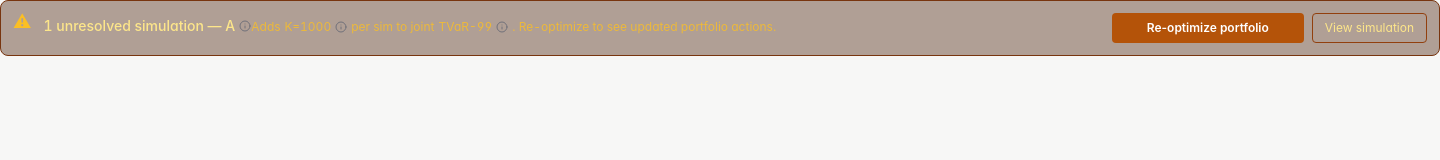
SimulationBanner — re-optimize progress stream › surfaces stream errors on the banner without reloading the page
Click the button with test id "reoptimize-button". click: (1208, 28)
box: x1=1112 y1=13 x2=1304 y2=43
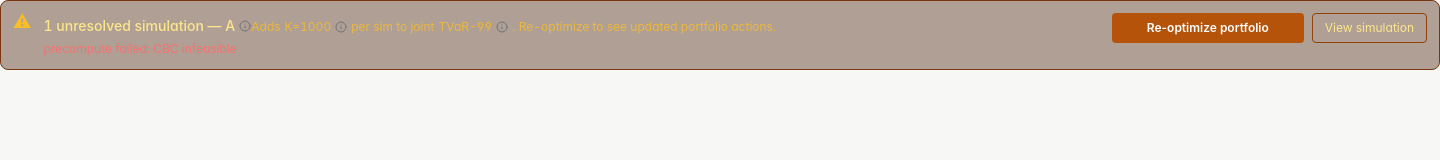
Result: the text "precompute failed: CBC infeasible" is shown at x1=44 y1=41 x2=237 y2=56
